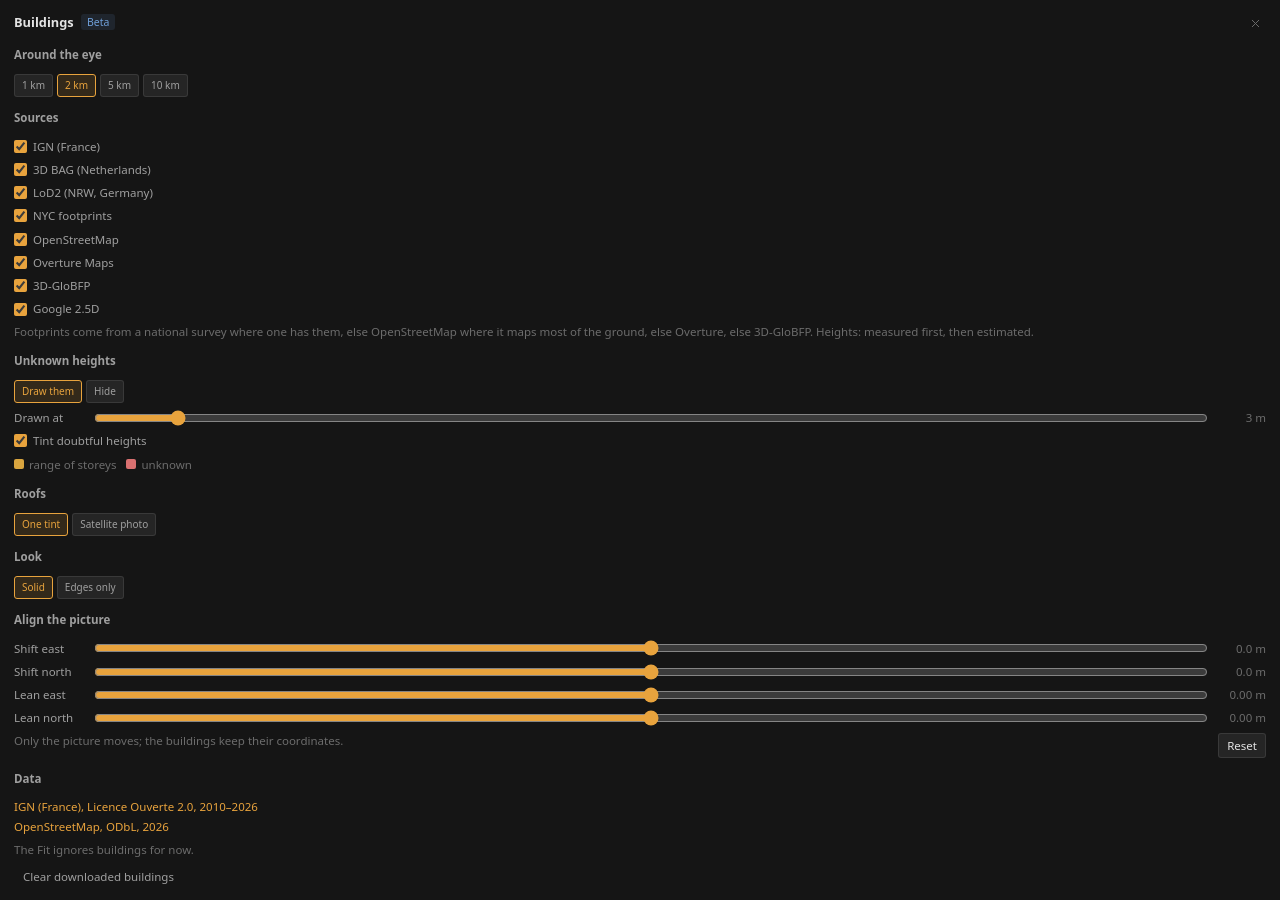
it: the Buildings settings panel › clears the downloaded buildings, and cannot while busy
Click the button "Clear downloaded buildings" at (98, 876), box left=14, top=864, right=1266, bottom=889
(page scrolled)
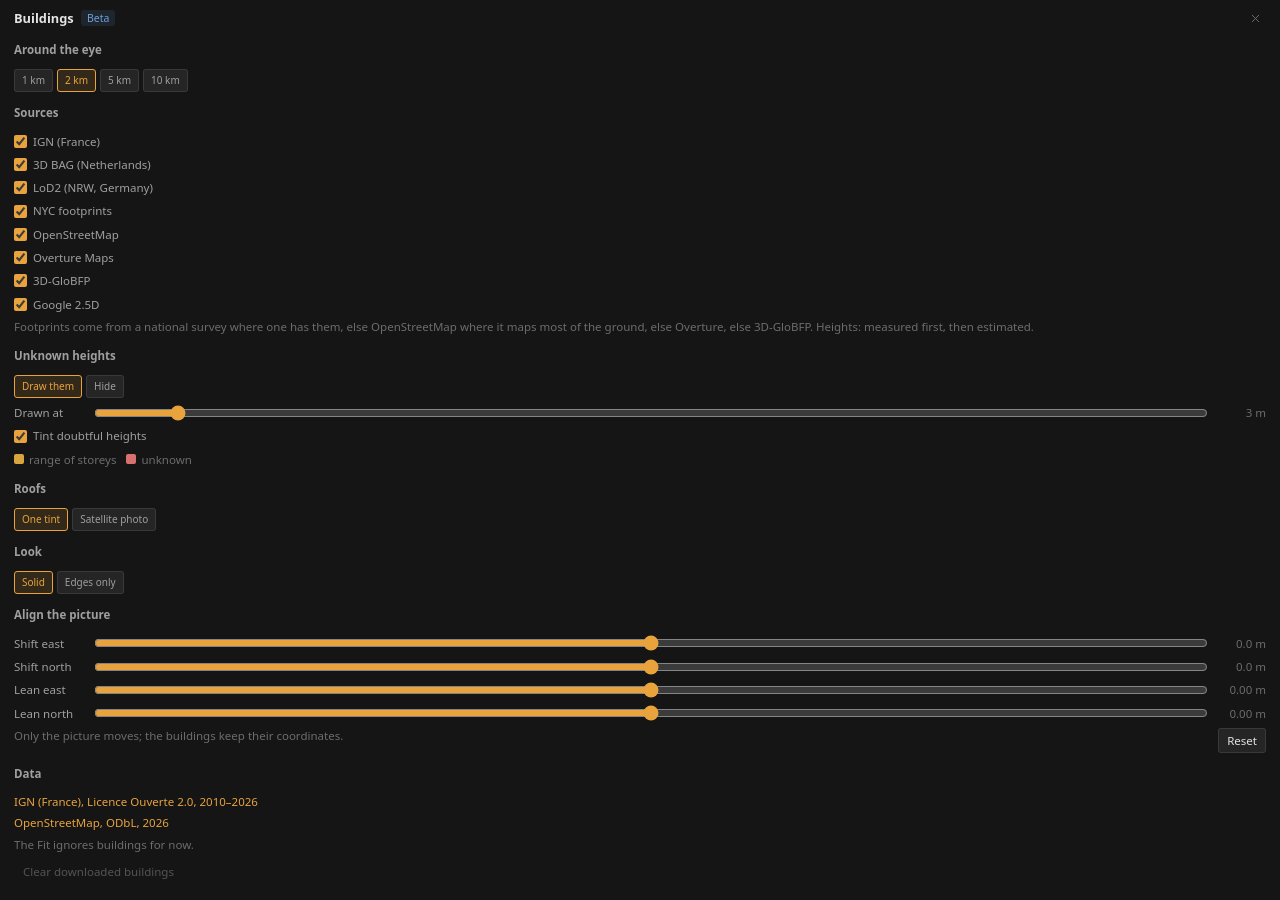
Now the button "Clear downloaded buildings" is disabled, box left=14, top=859, right=1266, bottom=884
